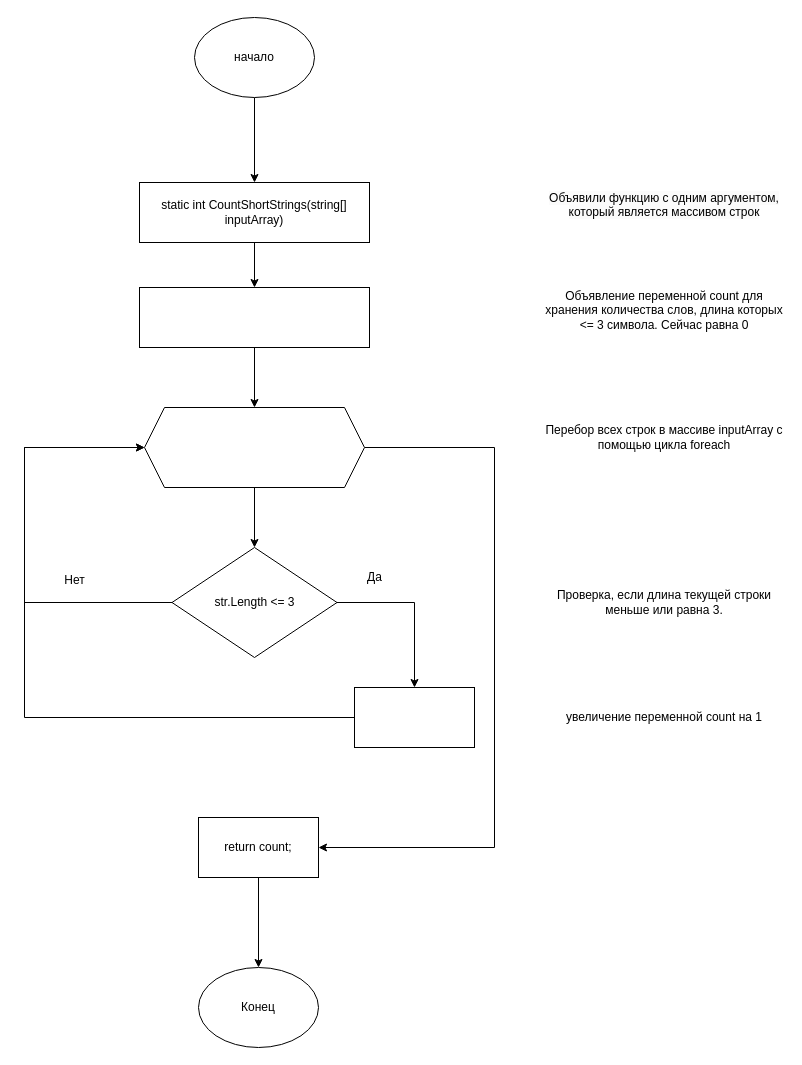
Image size: 802x1065. Some labels were removed from this diagram. The centre of each missing label's shape, as x and y in pixels:
"count++;" goes at pixel 414 717.
"int count = 0;" goes at pixel 254 317.
"string str in inputArray" goes at pixel 254 447.
